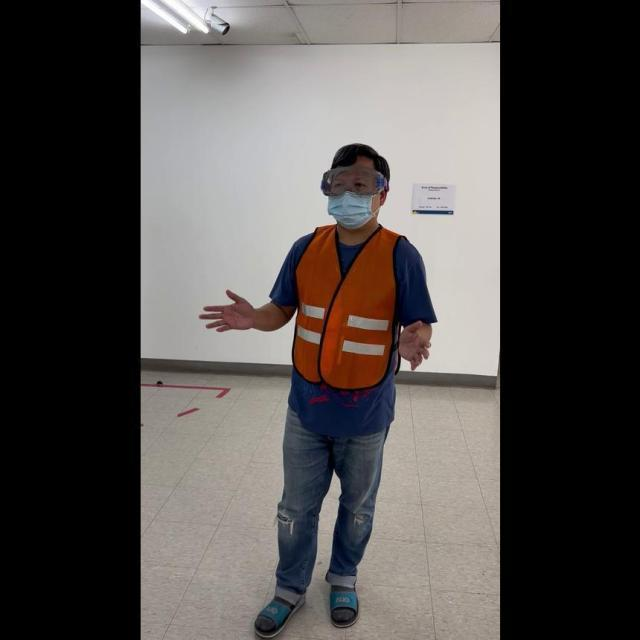bare_hand: (197, 284, 257, 334), (394, 315, 433, 371)
